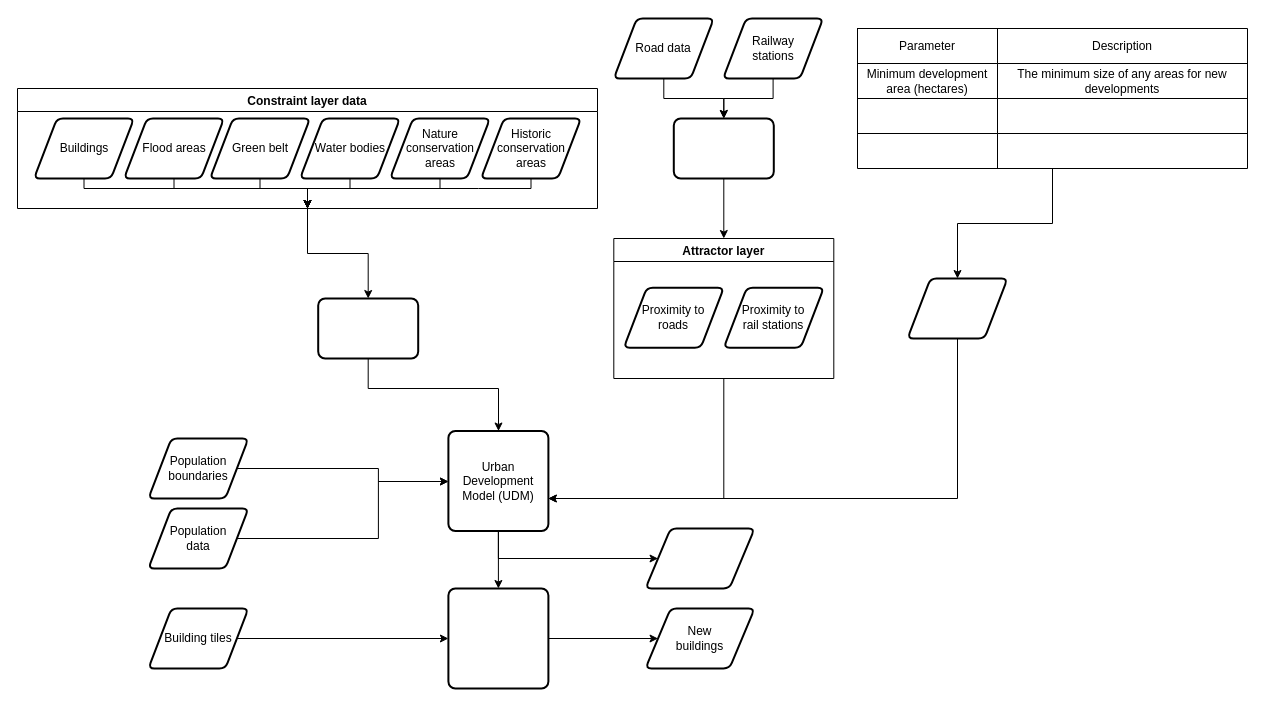
This 1273x706 diagram has some shape labels left out. The centre of each missing label's shape, as x and y in pixels:
Development suitability: [699,558]
Format convertor (vector to raster): [368,328]
Parameters: [957,308]
Proximity mapper: [723,148]
UDM Downscaling: [498,638]
